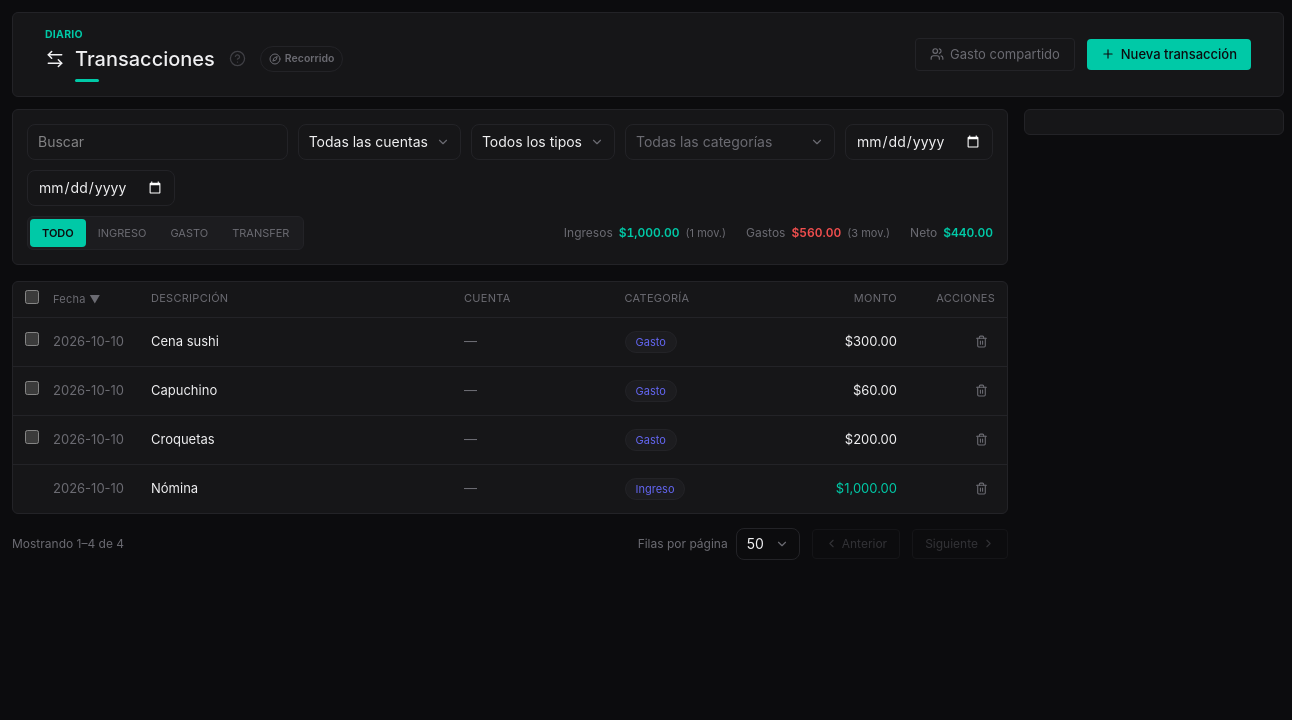
it: Transactions filters › has no clear button until something narrows the list
The image size is (1292, 720).
Type "sushi" into the field with placeholder "Buscar".
click(157, 142); type("sushi")  # box [27,124,288,160]
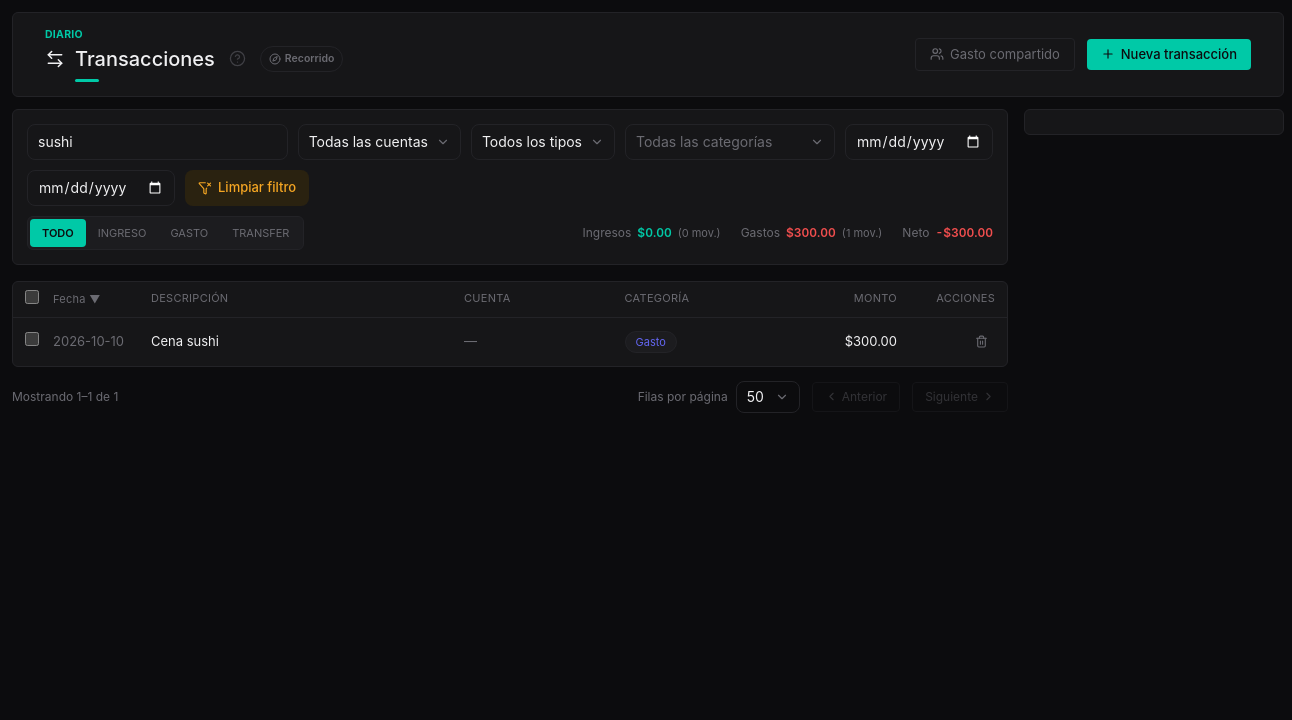
Now the button with test id "clear-filters" reads "Limpiar filtro", box [185,170,309,206]
